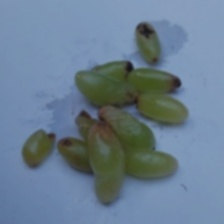grapes: (46, 3, 182, 190)
